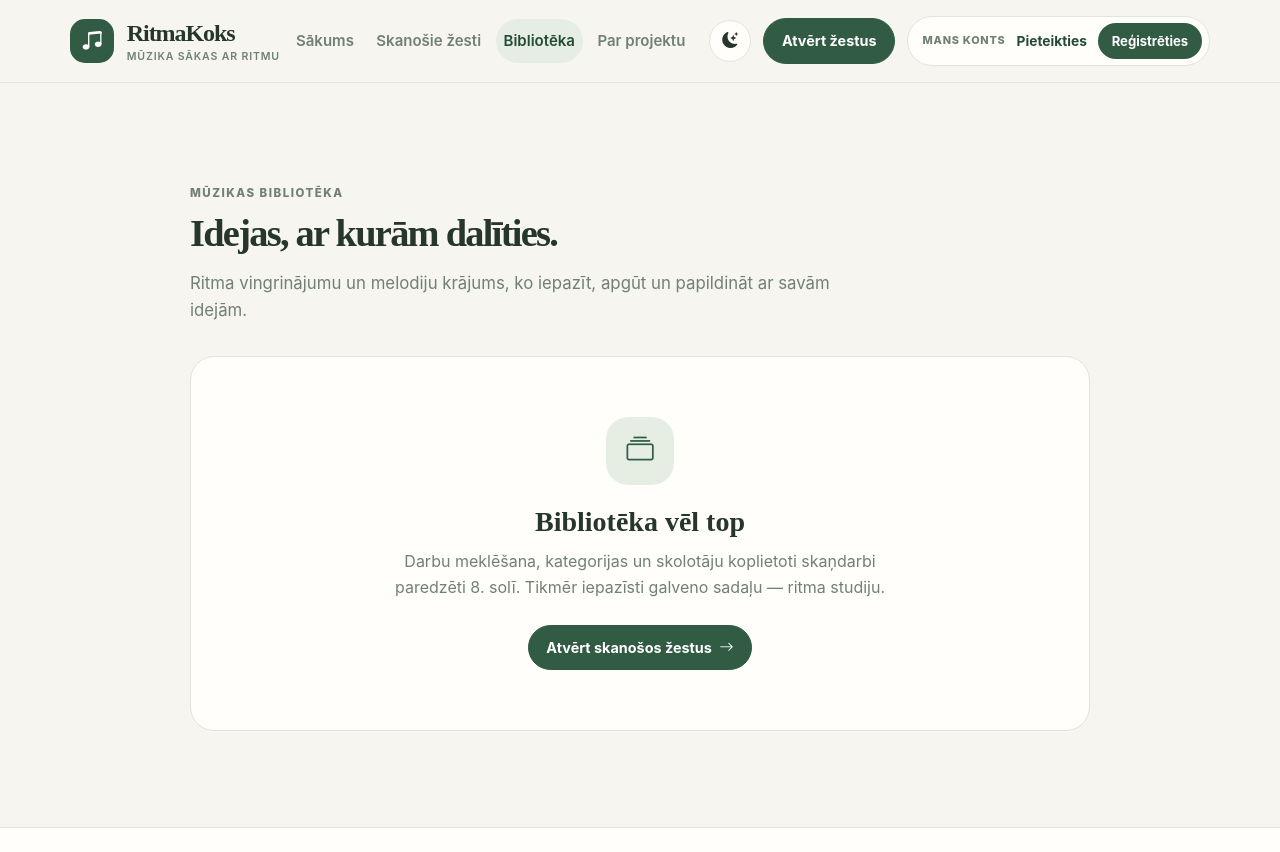
application shell › opens Skanošie žesti from its header action
The width and height of the screenshot is (1280, 852).
Click the link with class "nav-cta".
click(829, 41)  # box [763, 18, 895, 64]
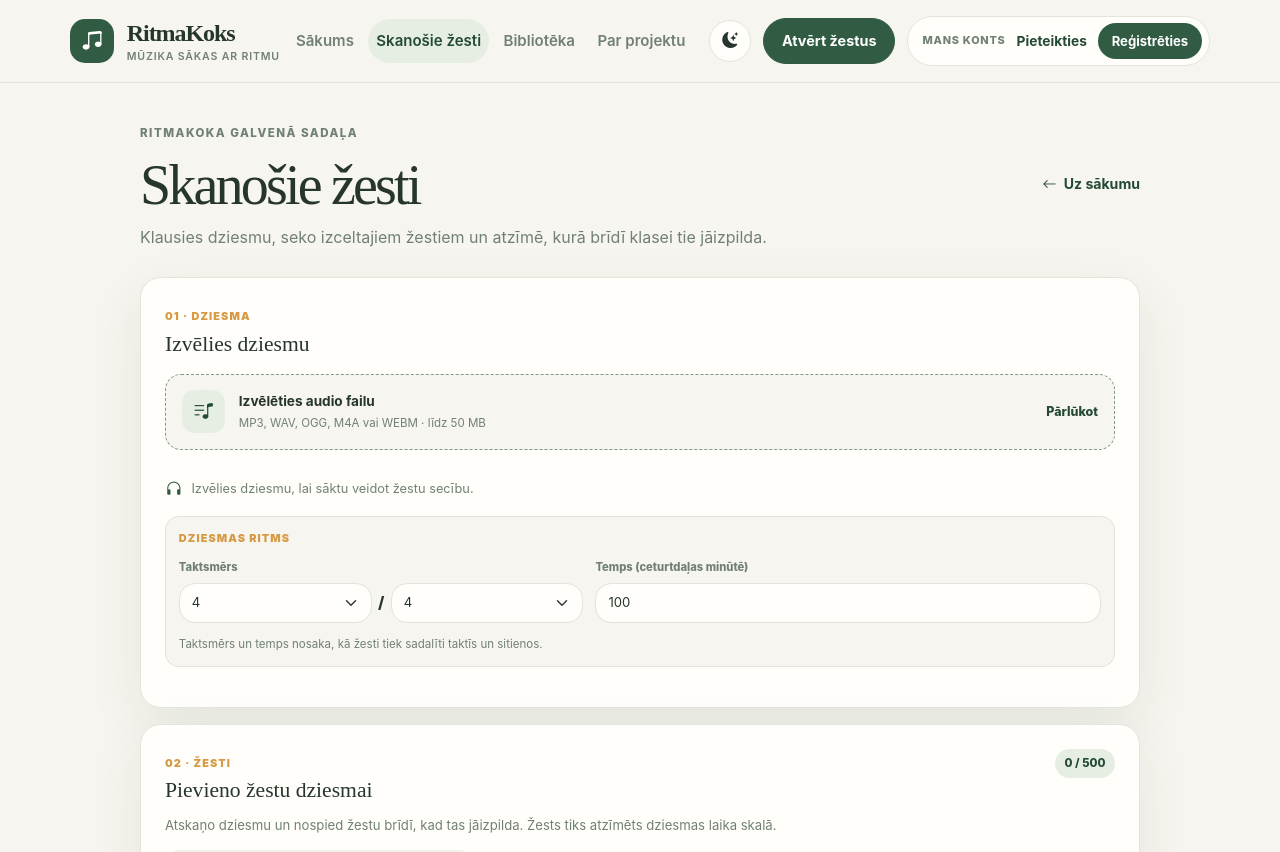
Check: the link with class "nav-link" reads "Skanošie žesti", box [368, 19, 489, 63]
Check: the heading "Skanošie žesti" is shown, box [140, 154, 420, 216]
